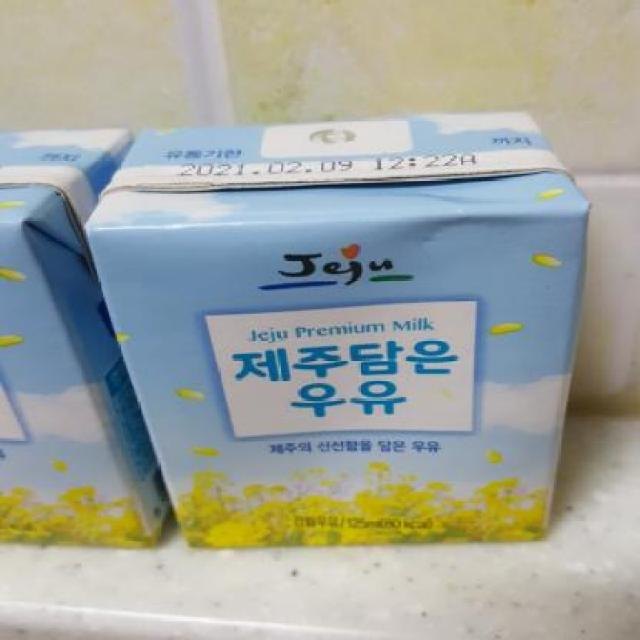tetra: (90, 75, 610, 587)
